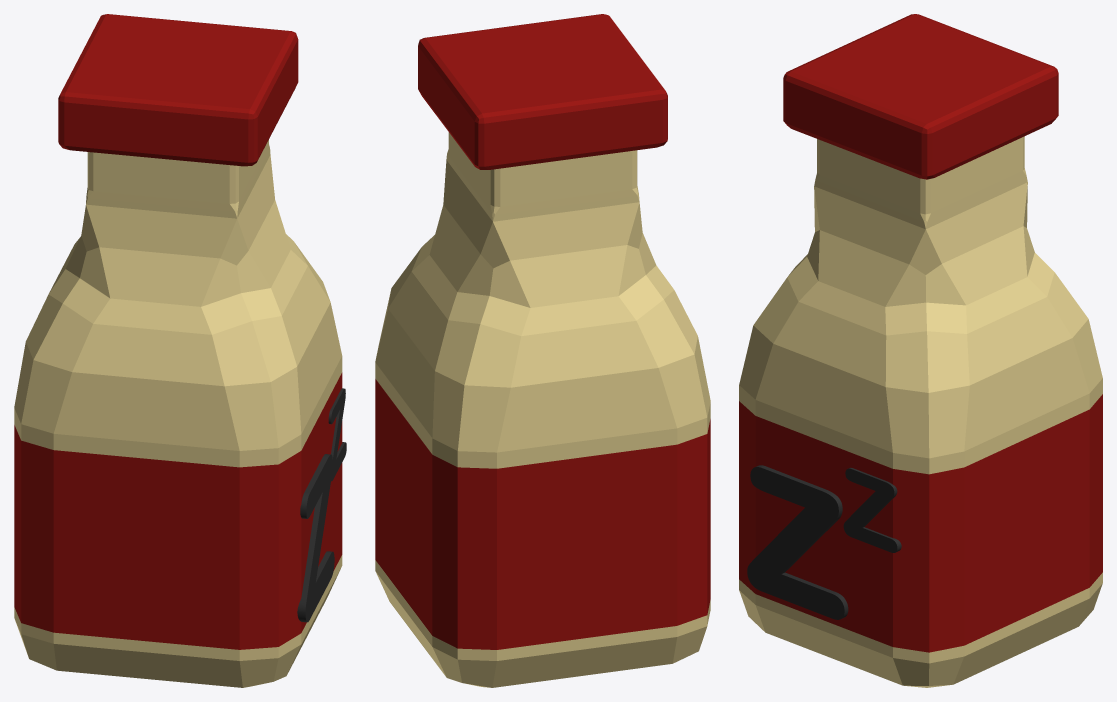
The model's file is Bottle with pills.fbx.
3 renders of one model, left to right at view 1: azimuth 30°, elevation 25°; view 2: azimuth 150°, elevation 25°; view 3: azimuth 270°, elevation 25°, orthographic. The views are drawn at different scales.
Parts seen in each view (by area): view 1: Bottle pills; view 2: Bottle pills; view 3: Bottle pills.
Boxes of the visible parts, x1=… form: Bottle pills: x1=14, y1=14, x2=346, y2=687; Bottle pills: x1=375, y1=14, x2=710, y2=687; Bottle pills: x1=739, y1=14, x2=1102, y2=687.
Bounding box in the file's own units: 171 × 293 × 171.
